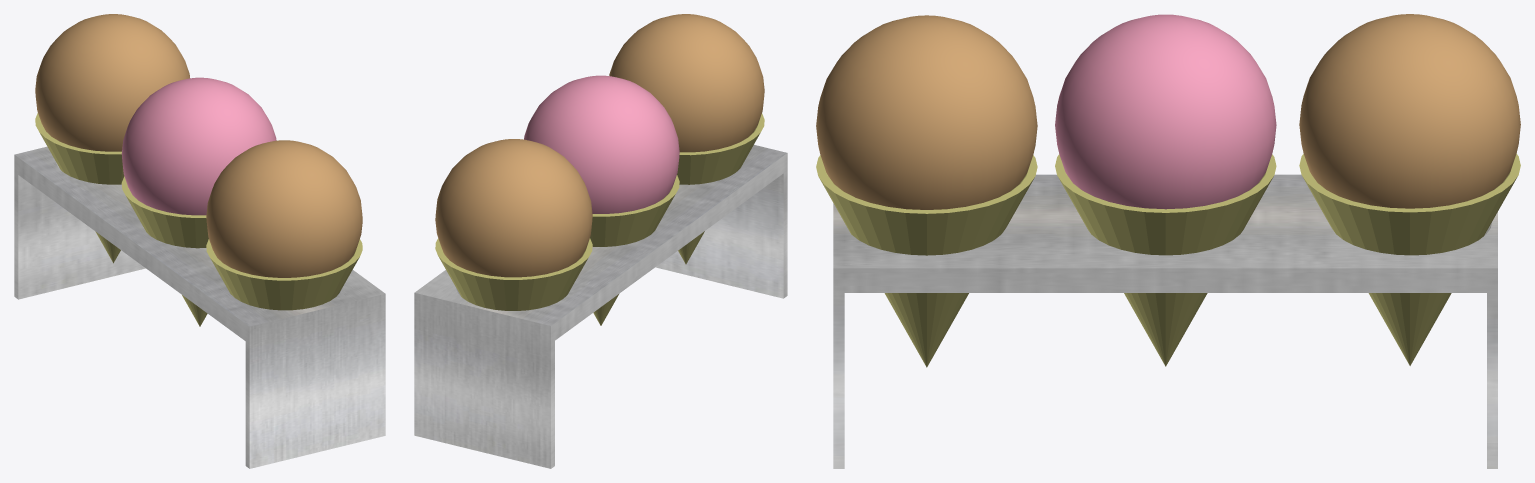
The model's file is IceCreamStandprop.glb.
The picture shows the model from 3 angles, left to right: view 1: azimuth 30°, elevation 25°; view 2: azimuth 150°, elevation 25°; view 3: azimuth 270°, elevation 25°; orthographic projection. The views are drawn at different scales.
Visible parts, largest first — view 1: Cone holder, Sphere.002, Sphere.001, Sphere, IceCream Cone.002, IceCream Cone.001, IceCream Cone; view 2: Cone holder, Sphere.001, Sphere, Sphere.002, IceCream Cone.001, IceCream Cone, IceCream Cone.002; view 3: Cone holder, Sphere, Sphere.002, Sphere.001, IceCream Cone.001, IceCream Cone, IceCream Cone.002.
Boxes of the visible parts, left/top/right/bottom form: Cone holder: left=14, top=146, right=385, bottom=468; Sphere.002: left=206, top=140, right=362, bottom=277; Sphere.001: left=35, top=14, right=189, bottom=151; Sphere: left=121, top=77, right=276, bottom=215; IceCream Cone.002: left=206, top=239, right=362, bottom=310; IceCream Cone.001: left=35, top=113, right=124, bottom=263; IceCream Cone: left=121, top=176, right=208, bottom=326; Cone holder: left=414, top=145, right=787, bottom=468; Sphere.001: left=435, top=139, right=592, bottom=277; Sphere: left=524, top=75, right=679, bottom=213; Sphere.002: left=609, top=14, right=764, bottom=152; IceCream Cone.001: left=435, top=238, right=592, bottom=310; IceCream Cone: left=590, top=175, right=679, bottom=325; IceCream Cone.002: left=677, top=113, right=764, bottom=264; Cone holder: left=833, top=174, right=1497, bottom=468; Sphere: left=1055, top=14, right=1276, bottom=209; Sphere.002: left=816, top=15, right=1037, bottom=209; Sphere.001: left=1299, top=14, right=1520, bottom=208; IceCream Cone.001: left=1299, top=153, right=1520, bottom=365; IceCream Cone: left=1055, top=154, right=1276, bottom=366; IceCream Cone.002: left=816, top=155, right=1037, bottom=367.
Bounding box in the file's own units: 2 × 3.96 × 6.36.
7 materials, 1 textured.
